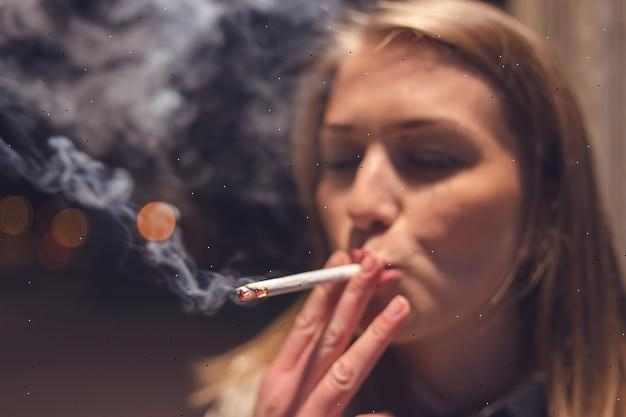cigarette: (236, 264, 360, 300)
